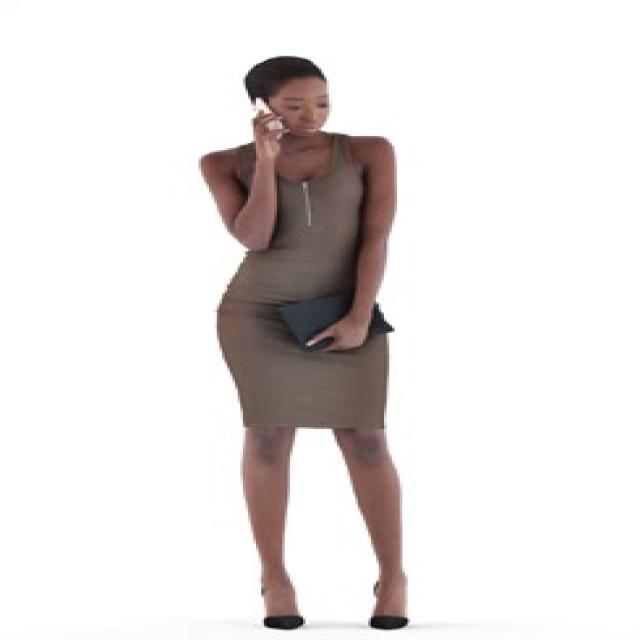standing: (187, 53, 436, 633)
